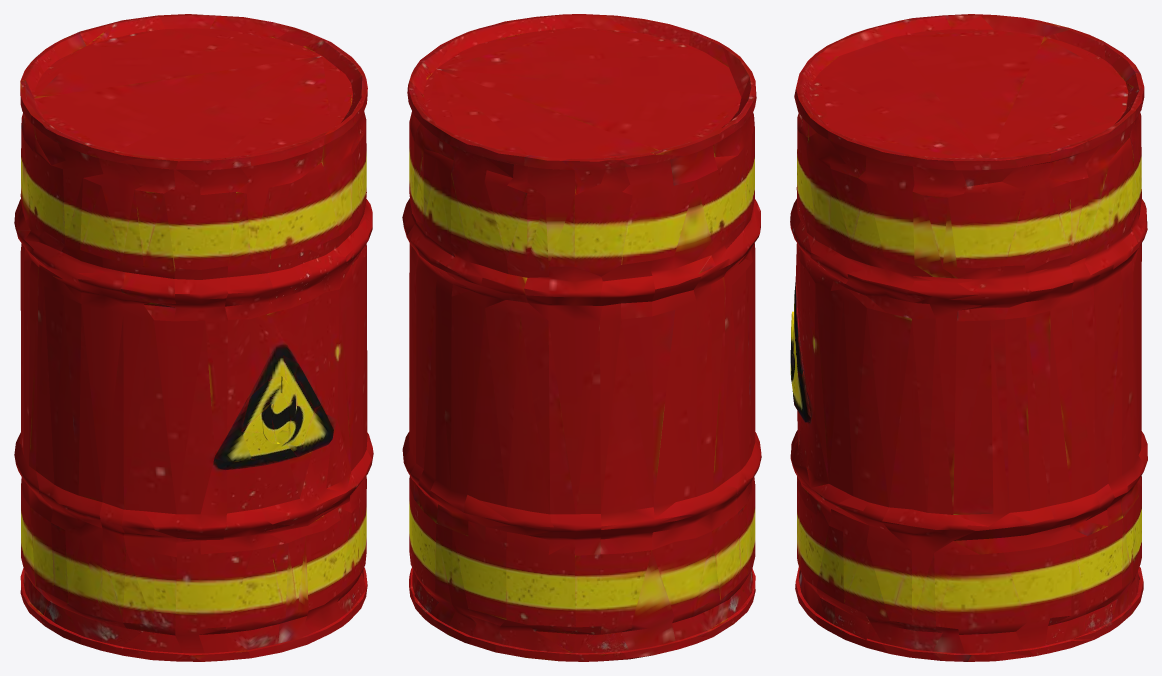
File: explosive_barrel.glb
3 views of the same model, side by side, from view 1: azimuth 30°, elevation 25°; view 2: azimuth 150°, elevation 25°; view 3: azimuth 270°, elevation 25° (orthographic).
Bounding box in the file's own units: 1.23 × 1.9 × 1.23.
Materials: 1 (1 with a texture image).
